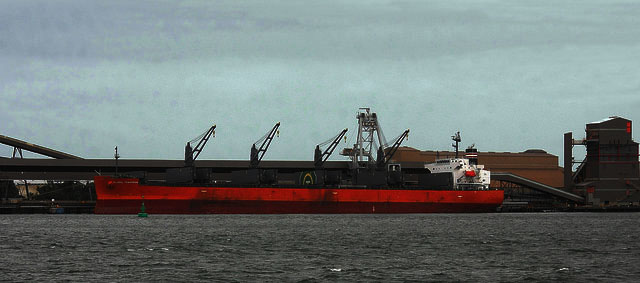bulk carrier: (92, 145, 506, 214)
